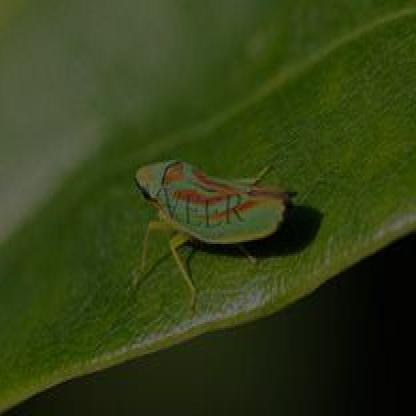green-leafhopper: (126, 143, 296, 299)
